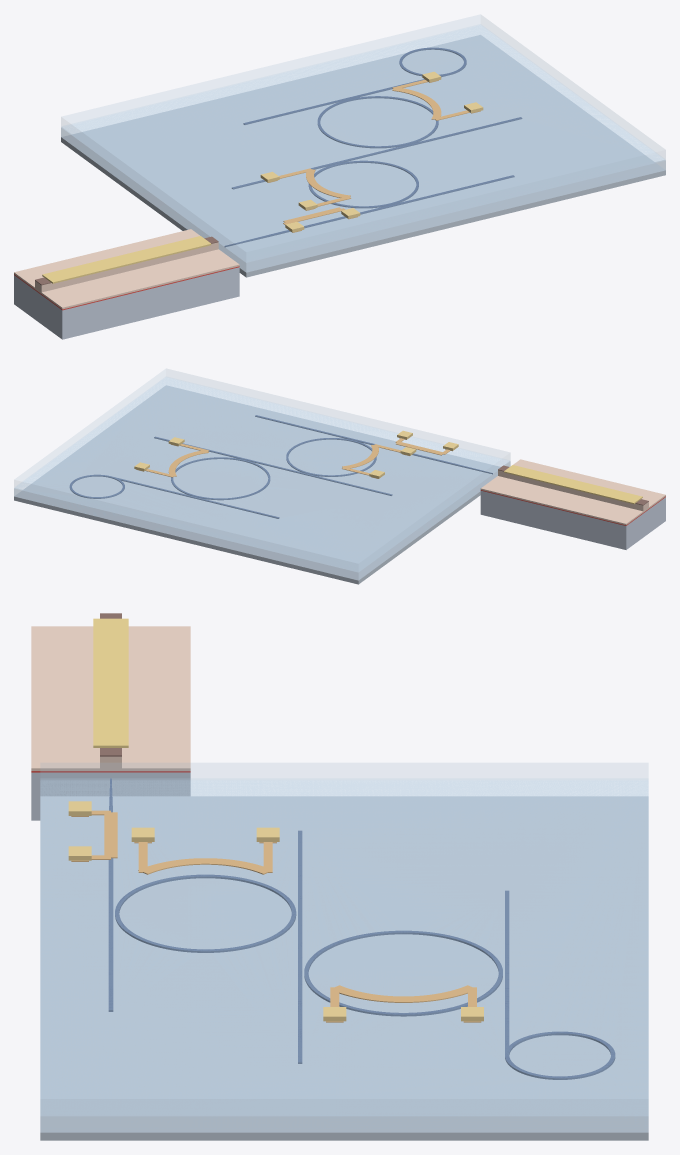
File: stack-ecl.glb
3 renders of one model, top to bottom at view 1: azimuth 30°, elevation 25°; view 2: azimuth 150°, elevation 25°; view 3: azimuth 270°, elevation 25°, orthographic. The views are drawn at different scales.
Visible parts, largest first — view 1: cladd, sisub, box, pinp, inp, siwg, pmetal, tin18, metal1; view 2: cladd, sisub, box, pinp, inp, siwg, pmetal, tin18, metal1; view 3: cladd, sisub, box, pinp, siwg, pmetal, inp, tin18, metal1.
Part boxes in pixels (x1=…): cladd: x1=61, y1=15, x2=665, y2=262; sisub: x1=61, y1=35, x2=665, y2=277; box: x1=61, y1=26, x2=665, y2=272; pinp: x1=14, y1=229, x2=239, y2=309; inp: x1=14, y1=267, x2=239, y2=339; siwg: x1=224, y1=47, x2=522, y2=247; pmetal: x1=42, y1=236, x2=211, y2=283; tin18: x1=268, y1=79, x2=480, y2=232; metal1: x1=260, y1=71, x2=483, y2=232; cladd: x1=14, y1=369, x2=510, y2=571; sisub: x1=14, y1=385, x2=500, y2=584; box: x1=14, y1=378, x2=510, y2=580; pinp: x1=480, y1=459, x2=665, y2=525; inp: x1=480, y1=491, x2=665, y2=549; siwg: x1=69, y1=415, x2=492, y2=518; pmetal: x1=504, y1=465, x2=642, y2=504; tin18: x1=136, y1=438, x2=452, y2=478; metal1: x1=134, y1=430, x2=458, y2=478; cladd: x1=40, y1=763, x2=648, y2=1115; sisub: x1=40, y1=796, x2=648, y2=1140; box: x1=40, y1=781, x2=648, y2=1132; pinp: x1=31, y1=626, x2=190, y2=770; siwg: x1=108, y1=778, x2=615, y2=1079; pmetal: x1=93, y1=618, x2=128, y2=747; inp: x1=31, y1=772, x2=190, y2=820; tin18: x1=71, y1=810, x2=481, y2=1022; metal1: x1=68, y1=801, x2=483, y2=1021.
Size of the model in its own units: 130 by 8.8 by 69.8.
